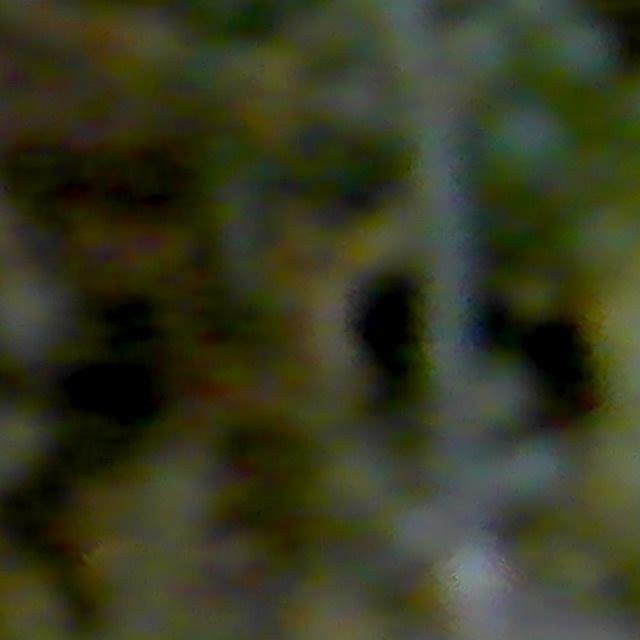SeaGrape: (482, 98, 576, 189), (0, 266, 71, 364), (433, 539, 513, 621), (535, 14, 615, 89), (566, 200, 640, 280), (443, 12, 519, 89), (380, 495, 453, 565), (507, 269, 562, 322)
